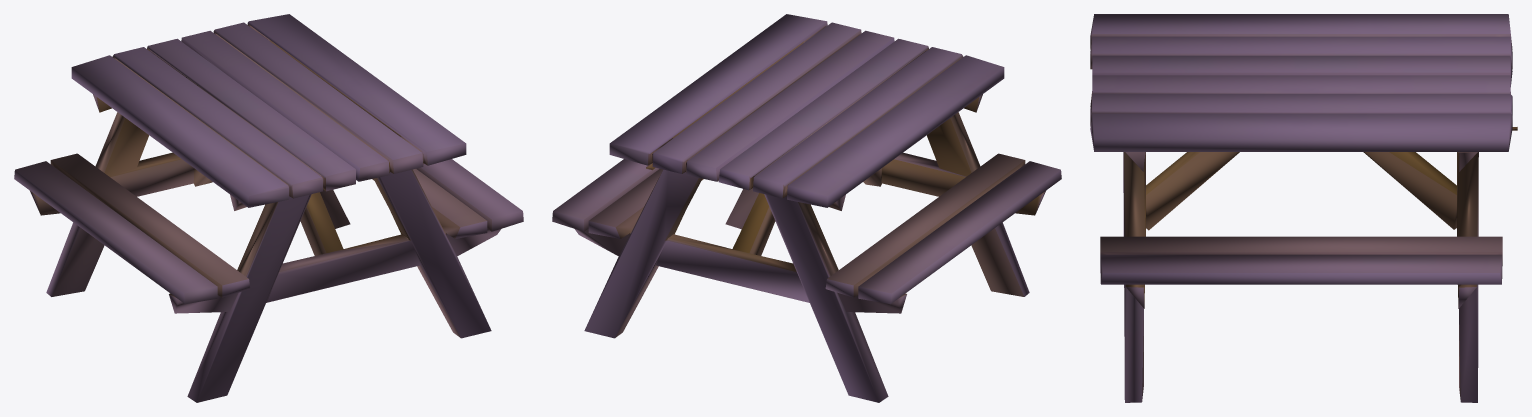
Rendered from model.progressive.glb.
The picture shows the model from 3 angles, left to right: view 1: azimuth 30°, elevation 25°; view 2: azimuth 150°, elevation 25°; view 3: azimuth 270°, elevation 25°; orthographic projection. The views are drawn at different scales.
Visible parts, largest first — view 1: material; view 2: material; view 3: material.
Boxes of the visible parts, bbox=[...] form: material: bbox=[14, 14, 523, 402]; material: bbox=[552, 14, 1061, 402]; material: bbox=[1090, 14, 1517, 402].
Bounding box in the file's own units: 1.87 × 1.1 × 1.74.
Materials: 1 (1 with a texture image).
